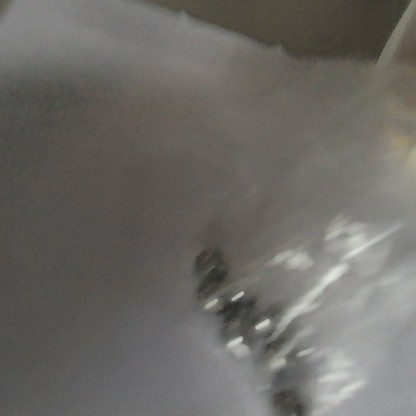ironball: (218, 309, 263, 362), (264, 378, 312, 414), (192, 274, 236, 312), (252, 302, 287, 344), (264, 341, 299, 383), (192, 241, 227, 274), (224, 279, 259, 309)
